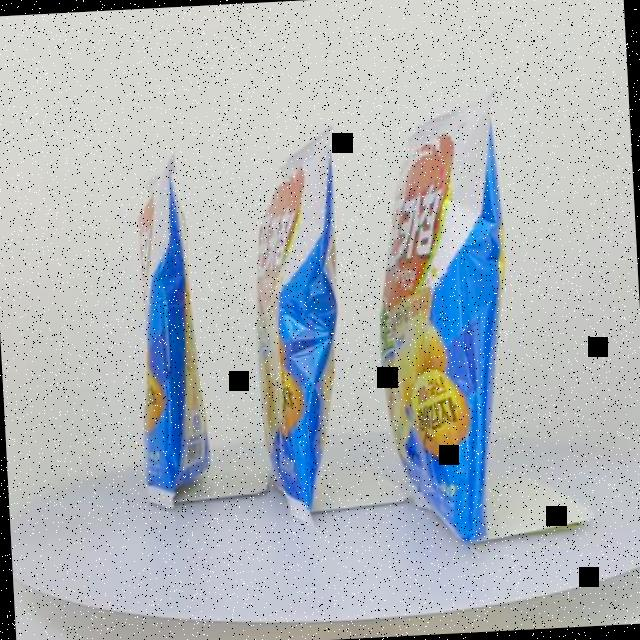snack_bag: (92, 72, 532, 579)
